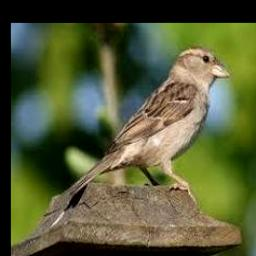Sparrow: (70, 47, 229, 199)
